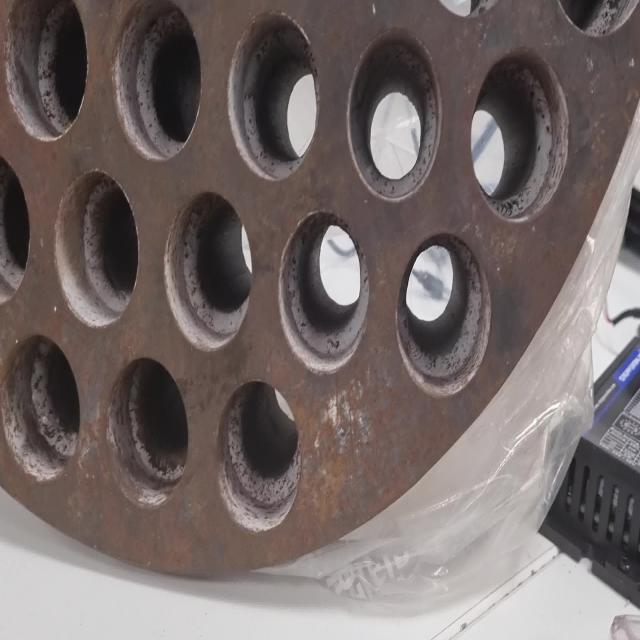Hole: (470, 47, 570, 222), (346, 29, 443, 201), (394, 231, 492, 397), (226, 11, 320, 181), (278, 208, 370, 374), (112, 0, 202, 162), (164, 191, 252, 352), (54, 170, 139, 328), (216, 379, 302, 535), (106, 355, 188, 509), (3, 0, 88, 142), (1, 333, 80, 482), (0, 150, 30, 306)
